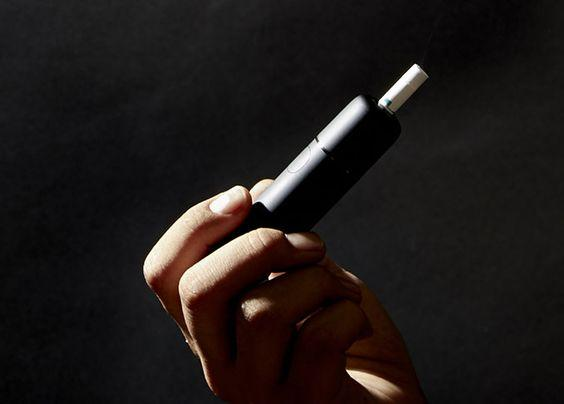iqos: (212, 65, 426, 249)
